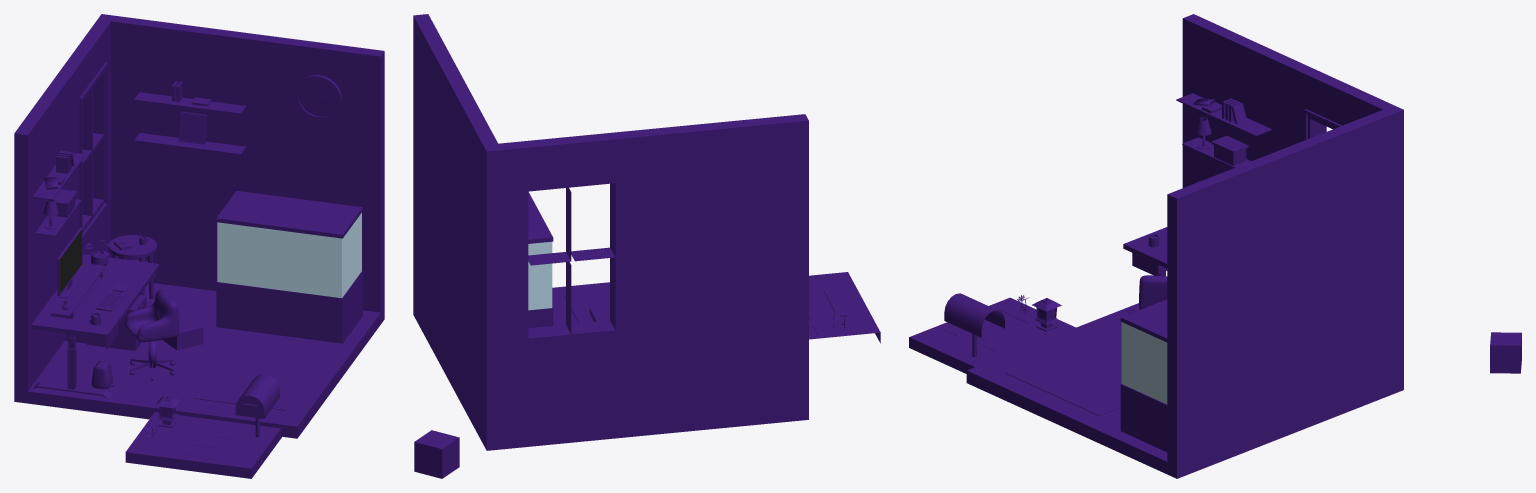
File: Finale.glb
3 renders of one model, left to right at view 1: azimuth 30°, elevation 25°; view 2: azimuth 150°, elevation 25°; view 3: azimuth 270°, elevation 25°, orthographic. The views are drawn at different scales.
Visible parts, largest first — view 1: Body, Aquarium, Desks, Floor Items, Mini Floor, Shelves, Table Stuff, Chair, Clock, Mailbox, Computer, Cube (+5 smaller); view 2: Body, Aquarium, Mini Floor, Cube.001, Floor Items, Dirt, FloorThird; view 3: Body, Aquarium, Floor Items, Mini Floor, Shelves, Mailbox, Desks, Cube.001, Chair, Lamp.
Boxes of the visible parts, left/top/right/bottom form: Body: left=14, top=14, right=384, bottom=438; Aquarium: left=216, top=190, right=362, bottom=343; Desks: left=31, top=235, right=159, bottom=398; Floor Items: left=87, top=295, right=324, bottom=410; Mini Floor: left=125, top=412, right=281, bottom=478; Shelves: left=32, top=81, right=246, bottom=236; Table Stuff: left=48, top=236, right=147, bottom=325; Chair: left=124, top=289, right=178, bottom=341; Clock: left=295, top=75, right=342, bottom=120; Mailbox: left=235, top=374, right=279, bottom=437; Computer: left=57, top=227, right=82, bottom=298; Cube: left=163, top=316, right=203, bottom=350; Body: left=413, top=14, right=808, bottom=450; Aquarium: left=528, top=192, right=553, bottom=328; Mini Floor: left=809, top=272, right=880, bottom=343; Cube.001: left=414, top=430, right=459, bottom=478; Floor Items: left=564, top=291, right=609, bottom=323; Dirt: left=812, top=321, right=865, bottom=334; FloorThird: left=824, top=289, right=856, bottom=311; Body: left=966, top=14, right=1403, bottom=478; Aquarium: left=1120, top=299, right=1167, bottom=451; Floor Items: left=1006, top=344, right=1121, bottom=415; Mini Floor: left=909, top=297, right=1075, bottom=373; Shelves: left=1176, top=93, right=1271, bottom=167; Mailbox: left=944, top=293, right=1004, bottom=357; Desks: left=1123, top=227, right=1167, bottom=313; Cube.001: left=1490, top=332, right=1521, bottom=373; Chair: left=1139, top=275, right=1167, bottom=309; Lamp: left=1032, top=298, right=1061, bottom=331.
Bounding box in the file's own units: 27.58 × 19.65 × 38.64.
